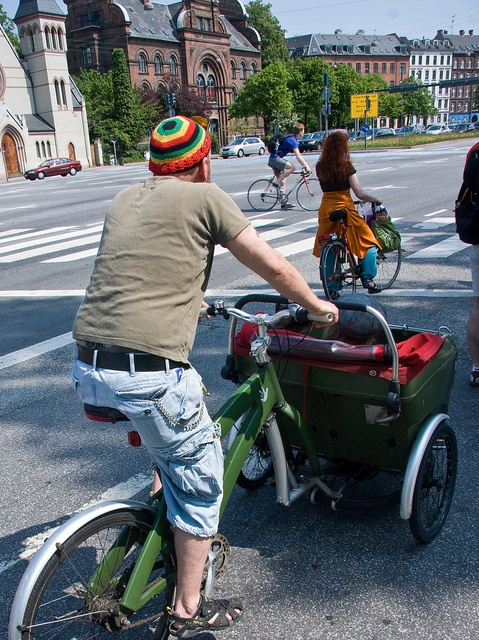non-vehicle: (6, 294, 459, 640), (317, 200, 403, 297), (246, 163, 322, 212)
